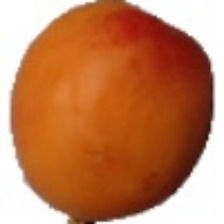apricot: (23, 20, 202, 203)
